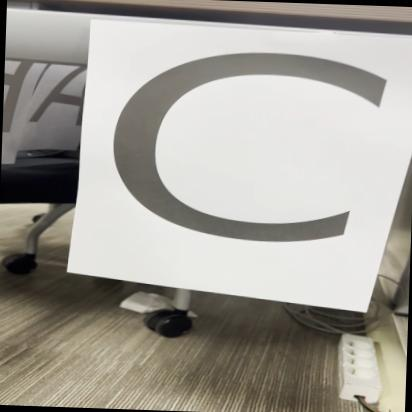seat: (59, 0, 412, 321)
